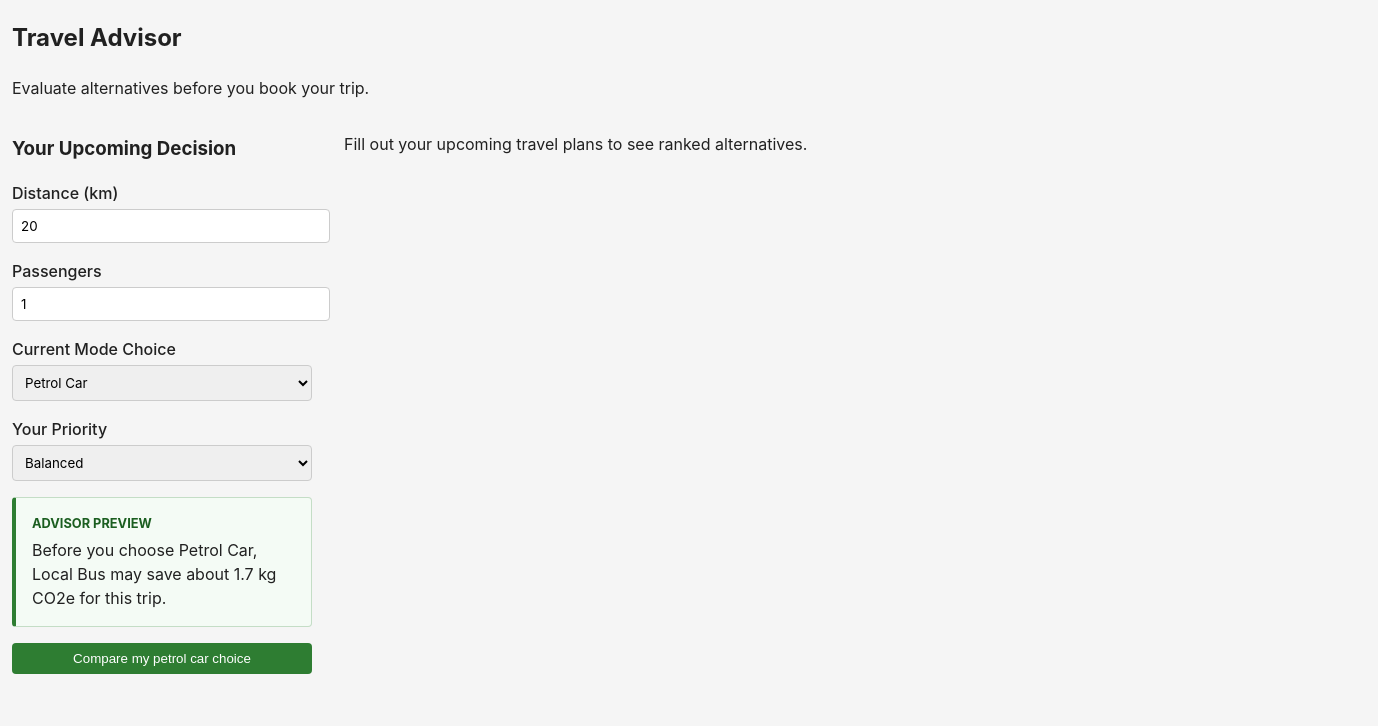
Test: TravelDecisionUI › renders the carbon cut decision slice
This screenshot has width=1378, height=726.
Step 1. Click the button "Compare my petrol car choice" → (162, 658), box [12,642,312,674]
(page scrolled)
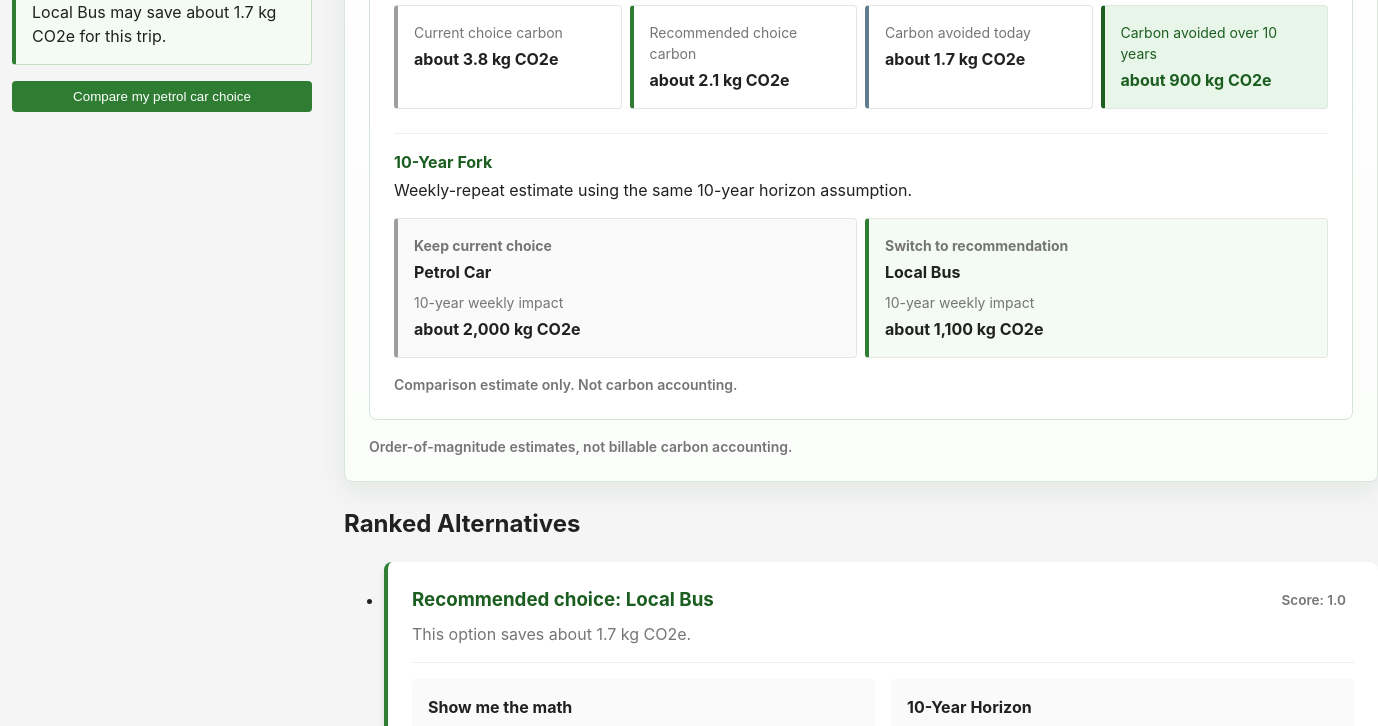
Expected: the text "Current choice carbon" is shown, [414,24,563,41]
Expected: the text "Recommended choice carbon" is shown, [650,24,797,62]
Expected: the text "Carbon avoided today" is shown, [885,24,1031,41]
